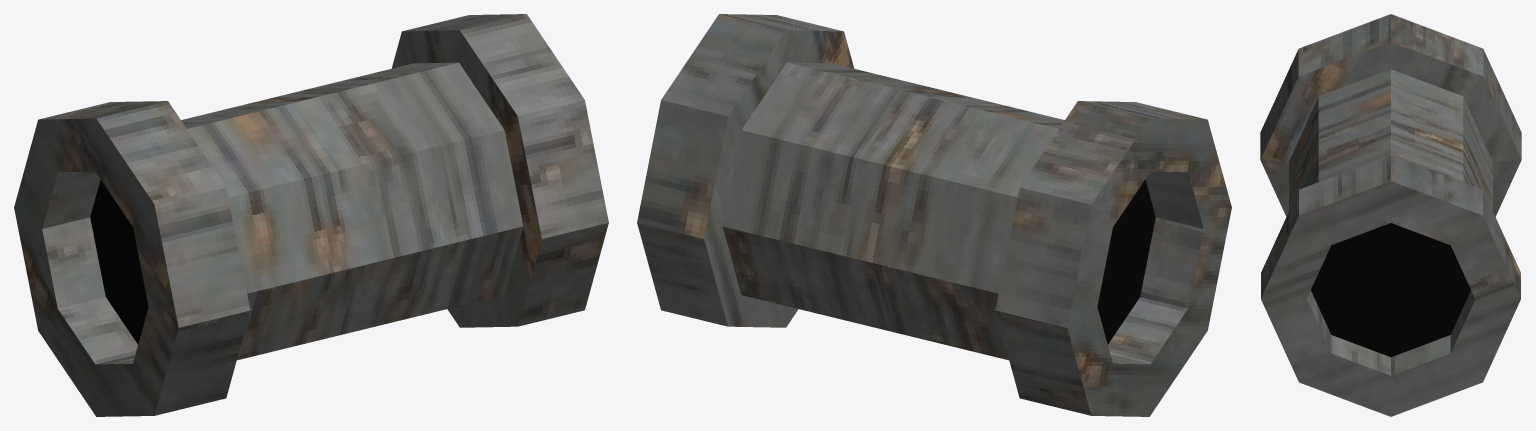
The model's file is kerning_small_pipe_2.gltf.
The picture shows the model from 3 angles, left to right: view 1: azimuth 30°, elevation 25°; view 2: azimuth 150°, elevation 25°; view 3: azimuth 270°, elevation 25°; orthographic projection. The views are drawn at different scales.
Parts seen in each view (by area): view 1: SmallPipe2; view 2: SmallPipe2; view 3: SmallPipe2.
Part boxes in pixels (x1,y1,x2,y2): SmallPipe2: [14, 14, 608, 416]; SmallPipe2: [637, 14, 1231, 416]; SmallPipe2: [1260, 14, 1521, 416].
Bounding box in the file's own units: 3.88 × 2.56 × 2.56.
1 material, 1 textured.
